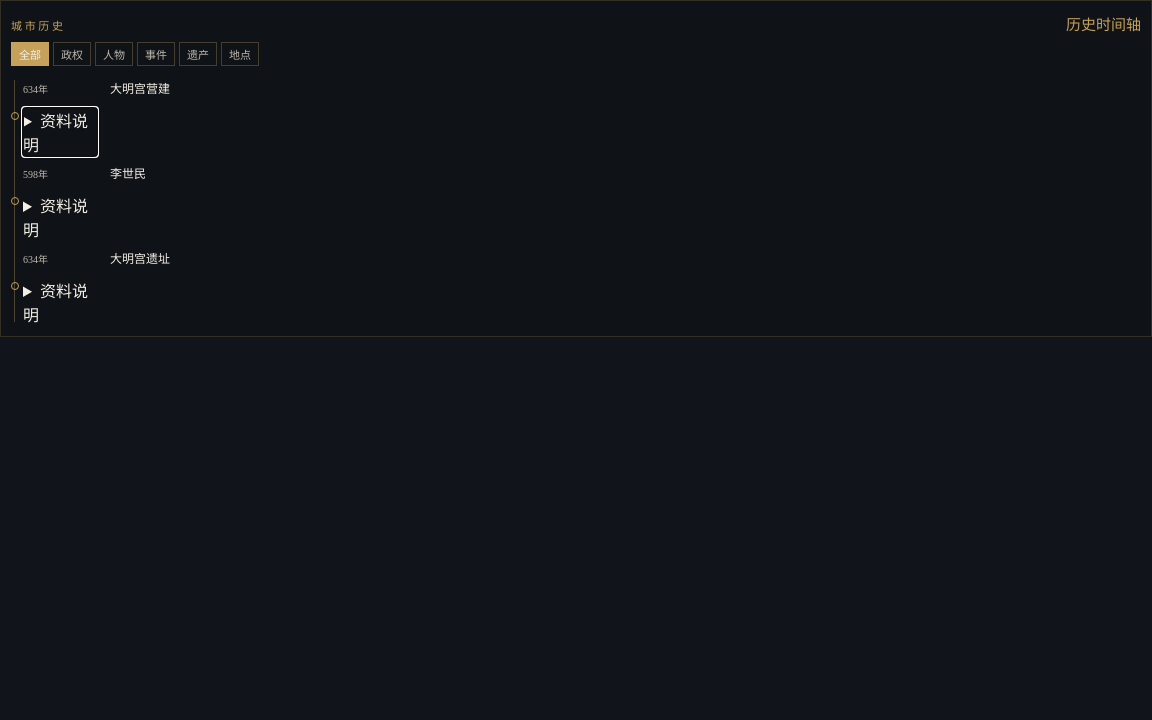
Test case: CityHistoryTimeline › shows reader-facing material notes without evidence workflow status
Click the 1st heading "资料说明" at (60, 132), box [23,108,97,156]
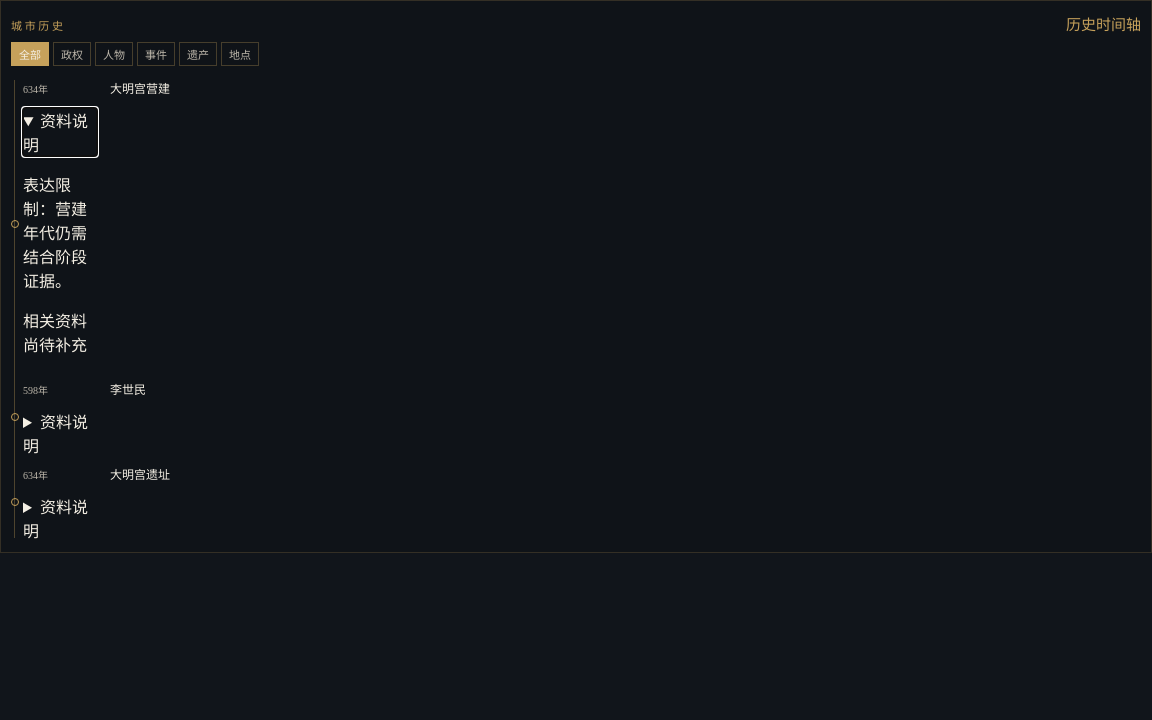
Now the text "营建年代仍需结合阶段证据。" is shown, box [23,201,87,290]
